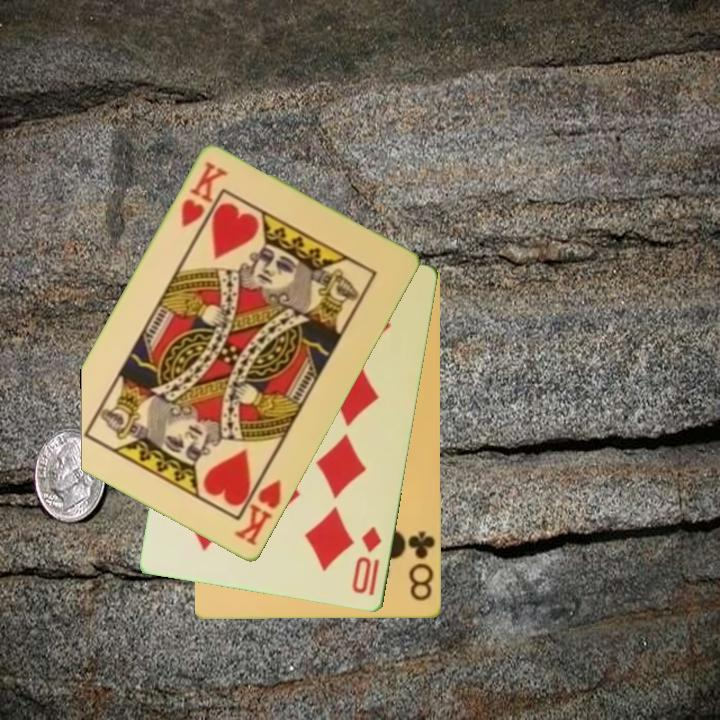10d: (349, 524, 385, 599)
8c: (405, 528, 438, 605)
Kh: (231, 466, 285, 550), (177, 158, 231, 231)
